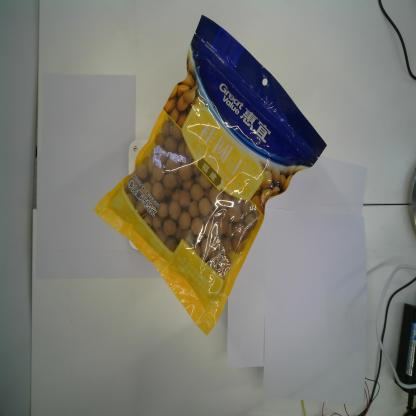Dried Food: (91, 13, 328, 339)
